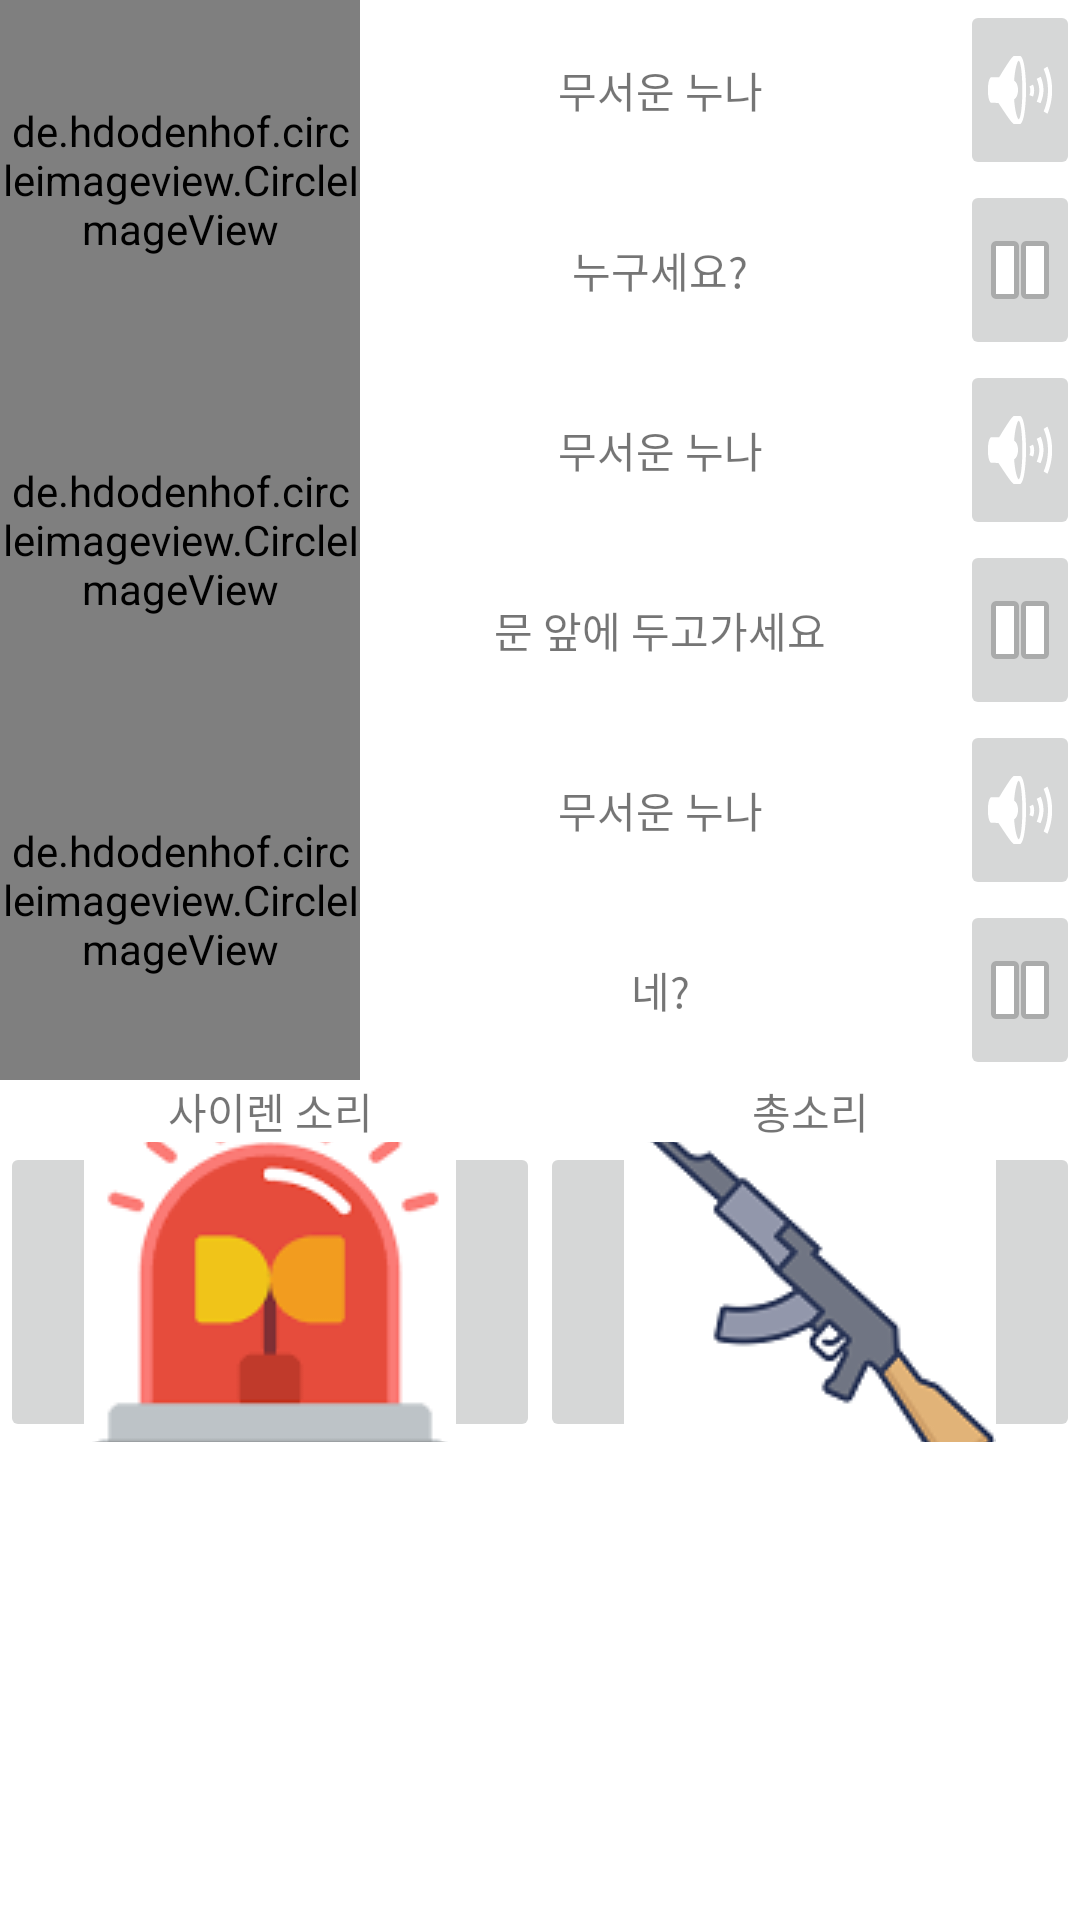

Screen size 1080px×1920px. Icon name, then its center in pixels as [x,y]:
pause: [1020,270], [1020,630], [1020,990]
